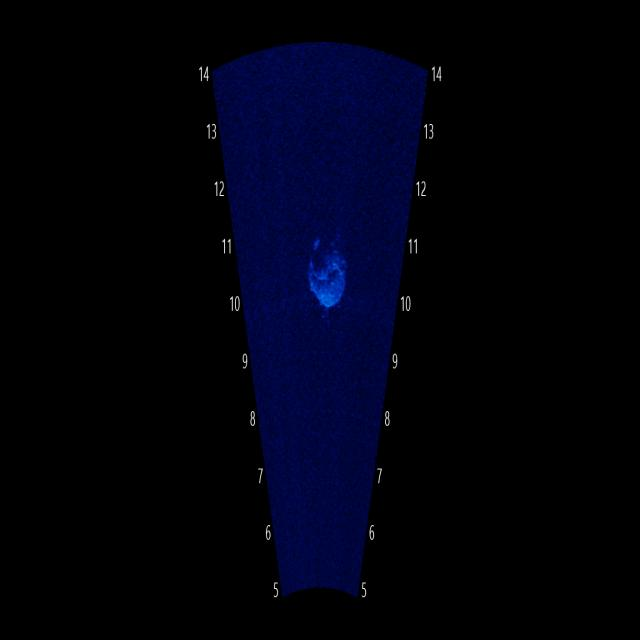circle: (304, 219, 351, 318)
